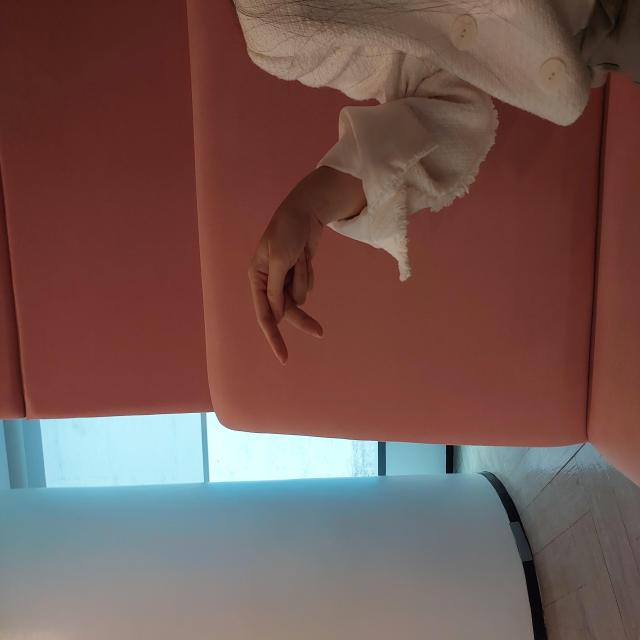P: (276, 248, 421, 325)
